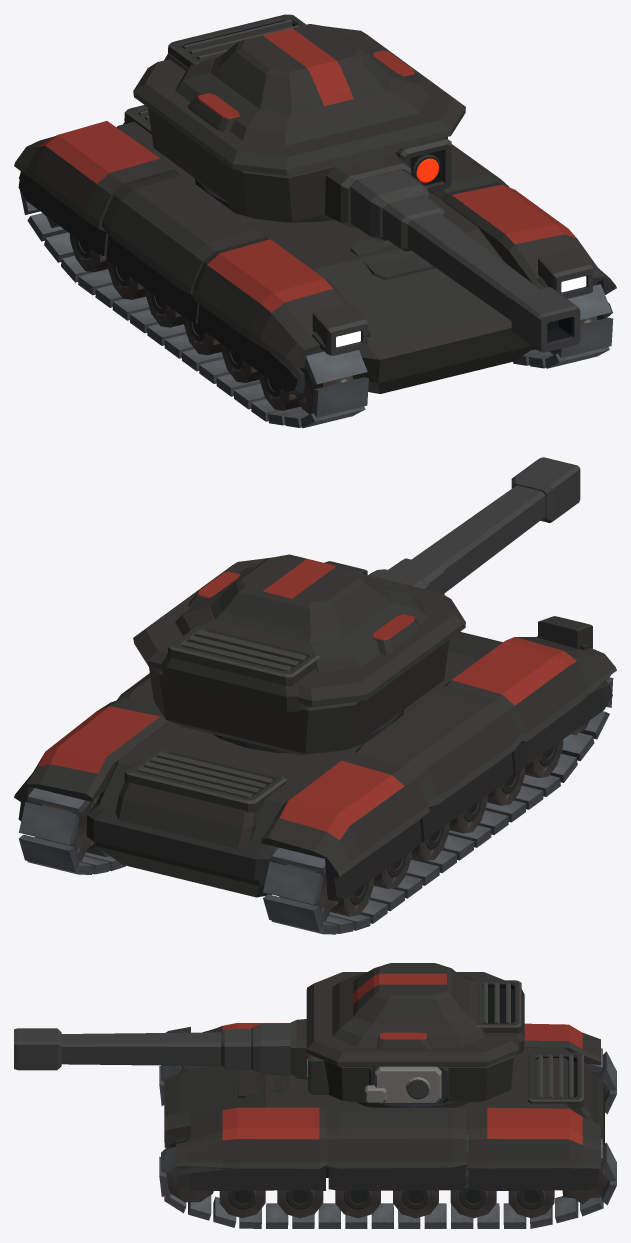
The model's file is Bastion.glb.
3 renders of one model, top to bottom at view 1: azimuth 30°, elevation 25°; view 2: azimuth 150°, elevation 25°; view 3: azimuth 270°, elevation 25°, orthographic. The views are drawn at different scales.
Visible parts, largest first — view 1: Tank_Hull, Armored_visor, Skirt_R_Front, Track_Links_R, Turret_Hatch, Skirt_R_Middle, Tank_Barrel, Skirt_R_Rear, Tank_Turret, Skirt_L_Front, Barrel_Muzzle_Brake, Road_Wheels_R (+14 smaller); view 2: Tank_Hull, Armored_visor, Tank_Turret, Skirt_R_Rear, Track_Links_R, Rear_deck_cooling, Turret_Hatch, Skirt_R_Middle, Skirt_R_Front, Turret_rear_vents, Skirt_L_Rear, Tank_Barrel (+10 smaller); view 3: Armored_visor, Tank_Hull, Skirt_L_Middle, Skirt_L_Front, Tank_Barrel, Track_Links_L, Skirt_L_Rear, Turret_Hatch, Road_Wheels_L, Tank_Turret, Apron_L_Front, Rear_deck_cooling (+16 smaller).
Boxes of the visible parts, <box> form: Tank_Hull: <box>116,121,533,393</box>; Armored_visor: <box>133,26,465,175</box>; Skirt_R_Front: <box>192,237,370,368</box>; Track_Links_R: <box>18,174,368,428</box>; Turret_Hatch: <box>210,24,391,114</box>; Skirt_R_Middle: <box>101,172,267,294</box>; Tank_Barrel: <box>351,169,539,320</box>; Skirt_R_Rear: <box>14,121,178,231</box>; Tank_Turret: <box>148,107,447,221</box>; Skirt_L_Front: <box>441,184,616,294</box>; Barrel_Muzzle_Brake: <box>511,287,580,352</box>; Road_Wheels_R: <box>70,234,300,410</box>; Tank_Hull: <box>86,631,502,897</box>; Armored_visor: <box>133,558,465,707</box>; Tank_Turret: <box>149,640,449,755</box>; Skirt_R_Rear: <box>261,752,429,878</box>; Track_Links_R: <box>263,674,613,934</box>; Rear_deck_cooling: <box>115,747,287,848</box>; Turret_Hatch: <box>210,554,391,643</box>; Skirt_R_Middle: <box>355,685,521,808</box>; Skirt_R_Front: <box>443,637,616,744</box>; Turret_rear_vents: <box>162,626,319,711</box>; Skirt_L_Rear: <box>14,698,169,804</box>; Tank_Barrel: <box>368,485,545,594</box>; Armored_visor: <box>306,972,519,1066</box>; Tank_Hull: <box>164,1047,604,1177</box>; Skirt_L_Middle: <box>327,1107,466,1169</box>; Skirt_L_Front: <box>176,1107,327,1169</box>; Tank_Barrel: <box>61,1023,290,1075</box>; Track_Links_L: <box>159,1134,616,1228</box>; Skirt_L_Rear: <box>467,1107,600,1169</box>; Turret_Hatch: <box>353,963,469,1023</box>; Road_Wheels_L: <box>219,1165,554,1218</box>; Tank_Turret: <box>324,1055,513,1102</box>; Apron_L_Front: <box>177,1166,325,1190</box>; Rear_deck_cooling: <box>528,1052,598,1123</box>.
Size of the model in its own units: 5.58 by 4.09 by 11.48.
12 materials, 1 textured.
